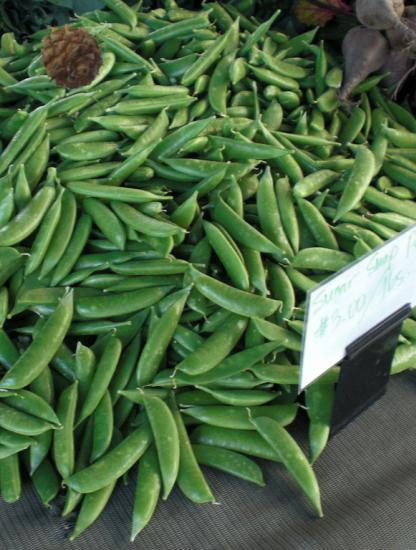Pineapple: (36, 22, 106, 92)
